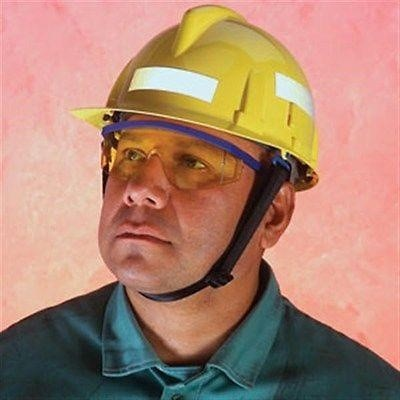face_no_mask: (92, 98, 276, 290)
